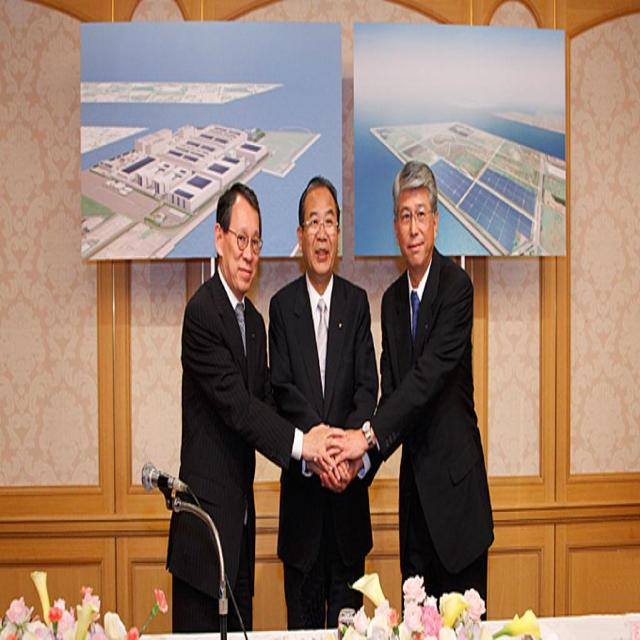Face: (393, 175, 442, 273), (215, 193, 260, 297), (300, 181, 345, 285)
